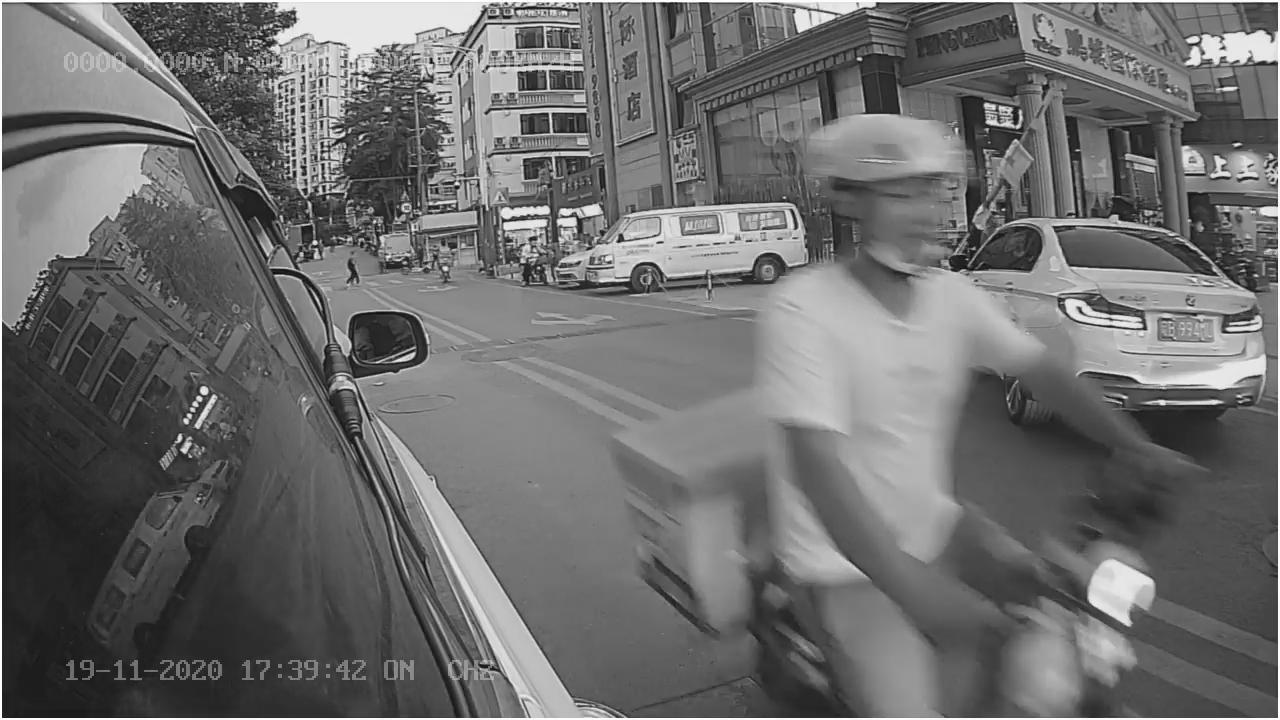person: (759, 130, 979, 521)
